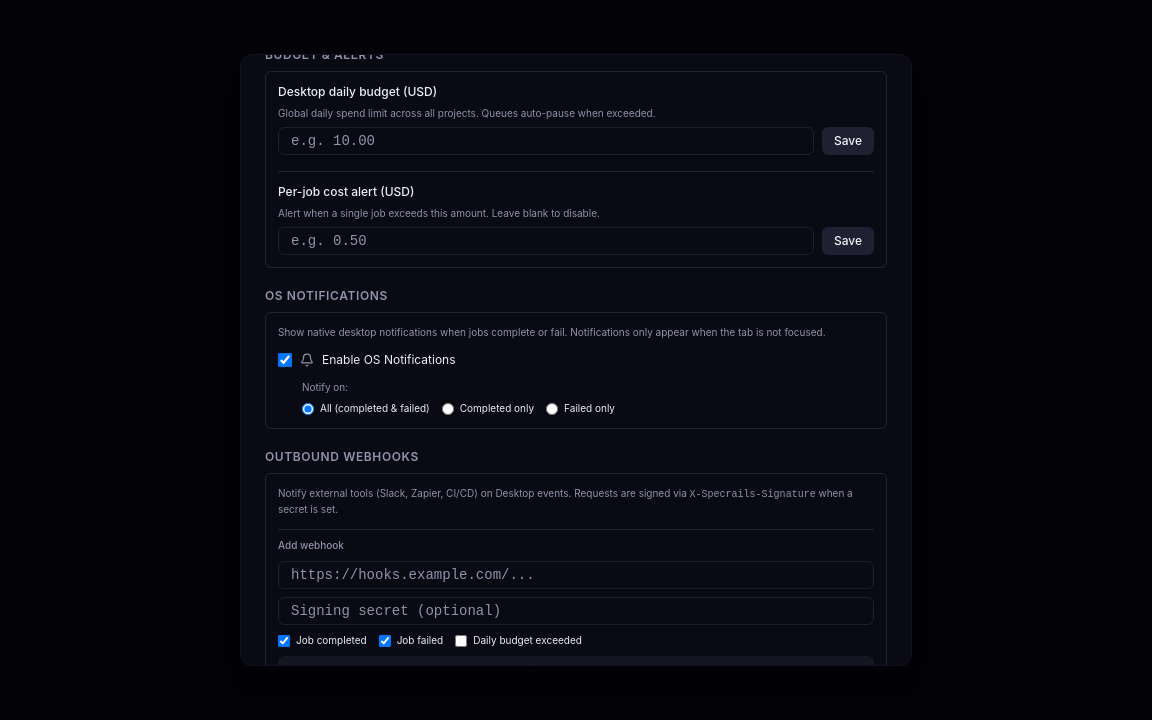
Test: GlobalSettingsPage — OS Notifications › hides filter options when notifications are disabled
(page scrolled)
Click the checkbox with test id "notif-toggle" at (285,360), box [278, 353, 292, 367]
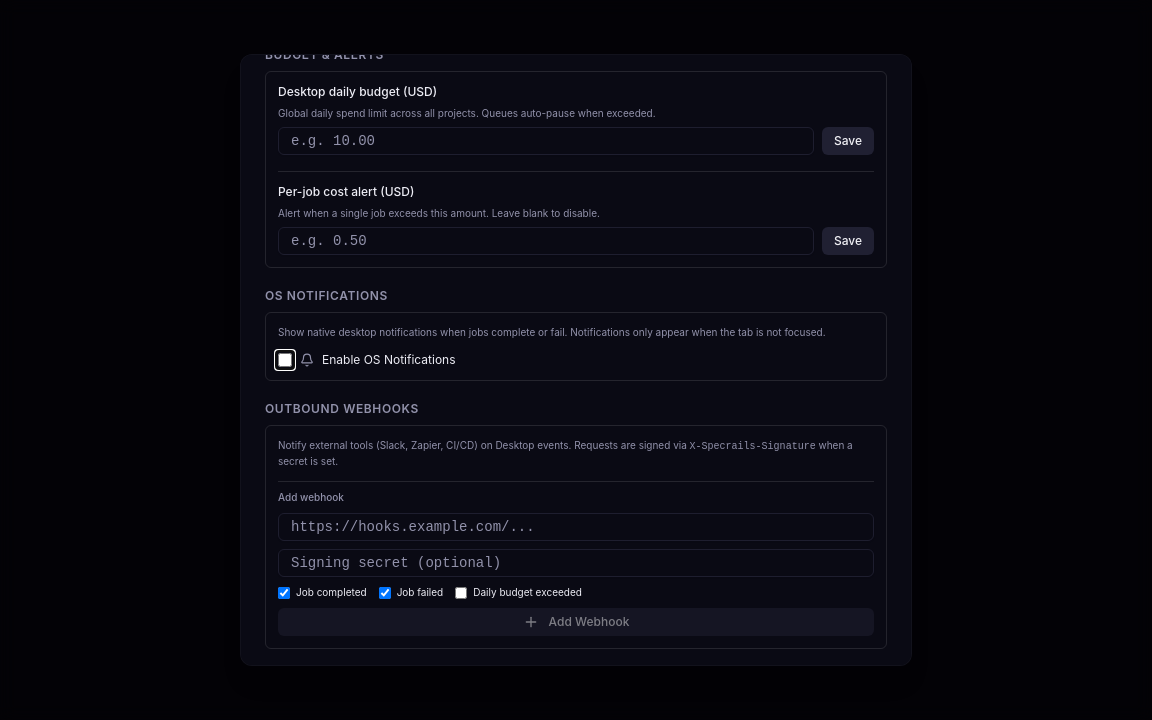
Expected: the text "All (completed & failed)" is gone
